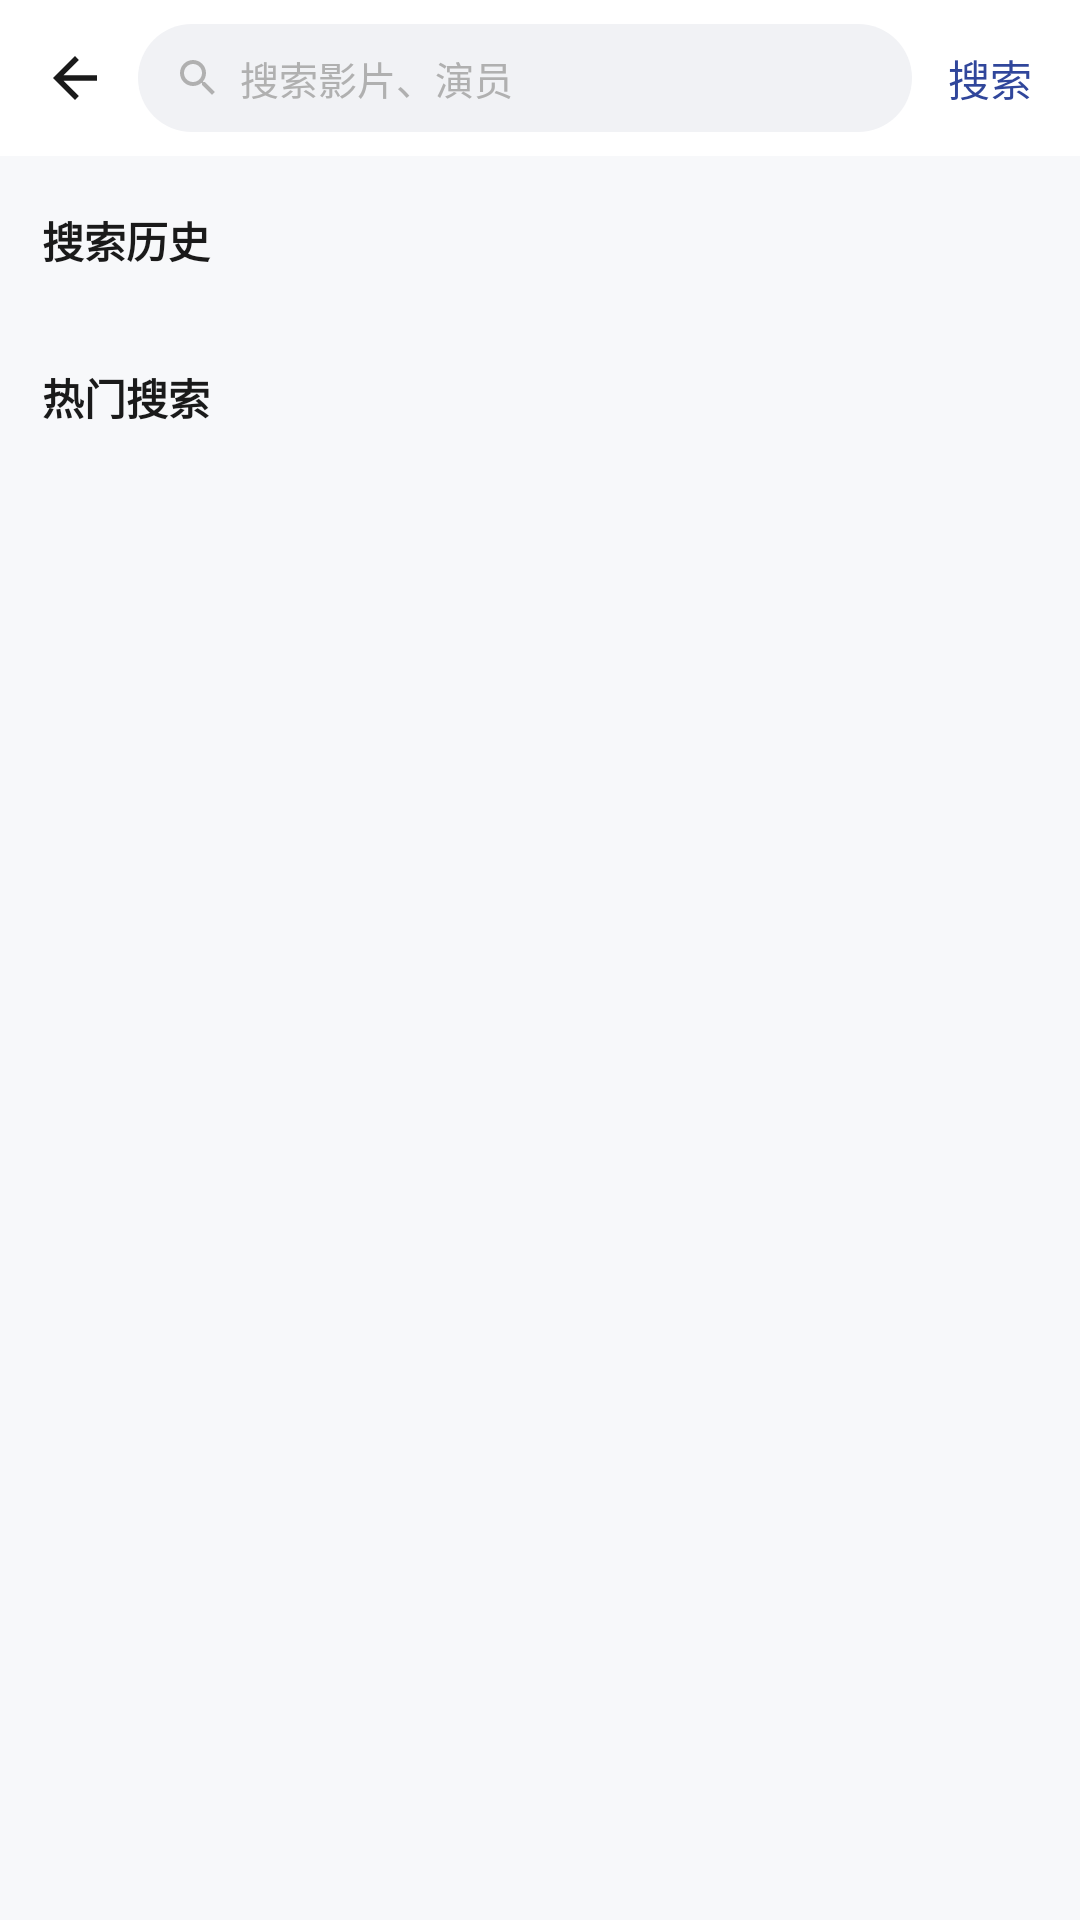

Where icons sit on this 1080w x 1920h app screen, as (x1, y1, x2, y2):
back: (53, 56, 97, 100)
